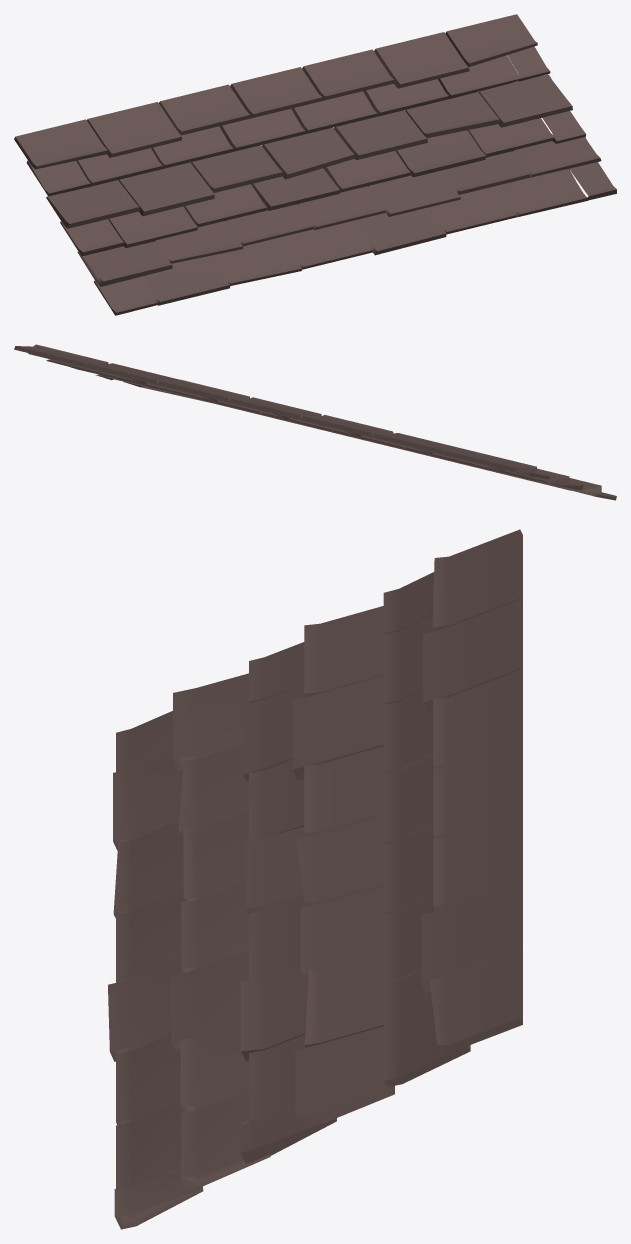
The model's file is Module_Building_Shingles.fbx.
The picture shows the model from 3 angles, top to bottom: view 1: azimuth 30°, elevation 25°; view 2: azimuth 150°, elevation 25°; view 3: azimuth 270°, elevation 25°; orthographic projection. The views are drawn at different scales.
Visible parts, largest first — view 1: Module_Building_Shingles; view 2: Module_Building_Shingles; view 3: Module_Building_Shingles.
Boxes of the visible parts, box(x1,y1,x2,y2) form: Module_Building_Shingles: box(14, 14, 616, 315); Module_Building_Shingles: box(14, 344, 616, 500); Module_Building_Shingles: box(108, 529, 522, 1229).
Size of the model in its own units: 300 by 60.91 by 108.
